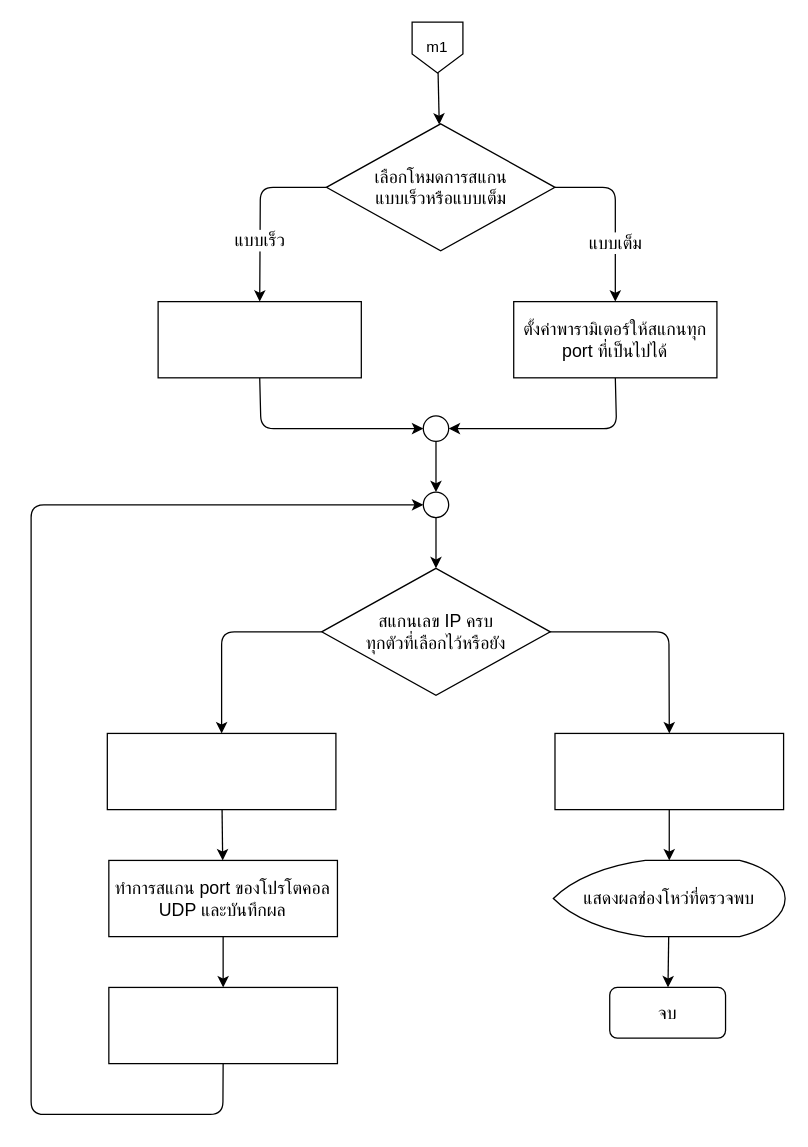
The diagram is 808 pixels wide and 1147 high, and some of its shapes have lost their labels. The shapes that lost their labels are listed below. From the top down, each one's box as (x1, y1, x2, y2) in pixels, then its label:
(157, 300, 361, 378): ตั้งค่าพารามิเตอร์ให้สแกนแค่ port ที่รู้จักกันดี
(106, 732, 336, 810): ทำการสแกน port ของโปรโตคอล TCP และบันทึกผล
(554, 732, 784, 810): วิเคราะห์ผลลัพธ์จากการสแกน
(108, 986, 337, 1064): ทำการเลือกเลข IP ตัวต่อไปมาทำการสแกนจนกว่าจะครบ
